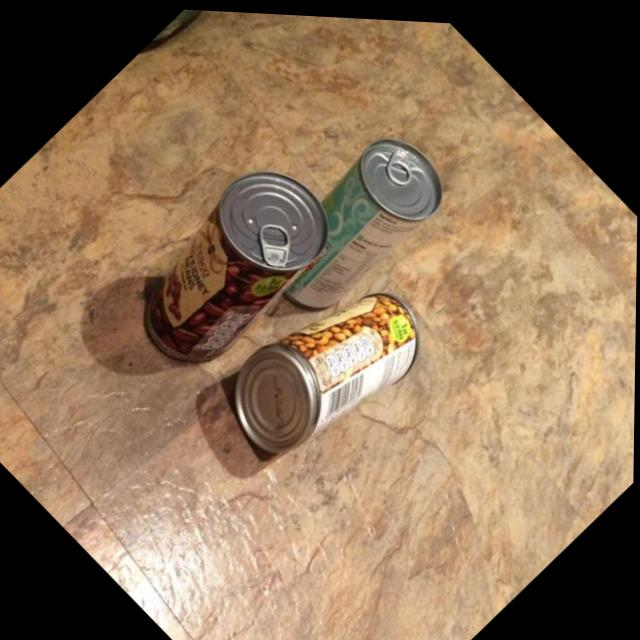metal: (139, 175, 328, 361), (223, 294, 415, 453), (284, 140, 440, 308)
